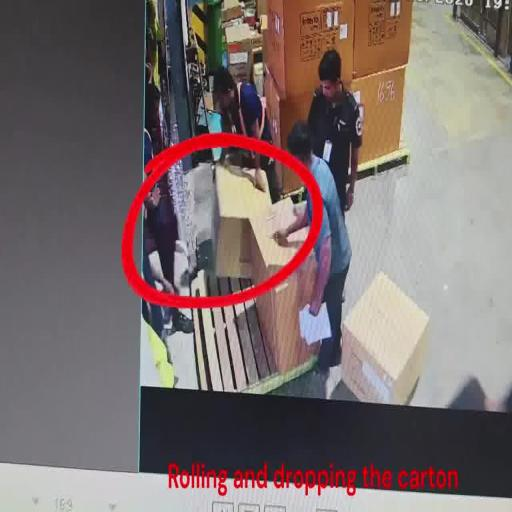carton: (212, 158, 314, 372), (338, 267, 432, 406), (259, 1, 355, 99), (263, 68, 317, 198), (352, 64, 406, 173), (351, 0, 413, 81)
pallet: (189, 258, 317, 397), (272, 148, 410, 207)
person: (273, 120, 352, 392), (211, 65, 285, 206), (305, 46, 364, 214), (142, 166, 192, 344)
